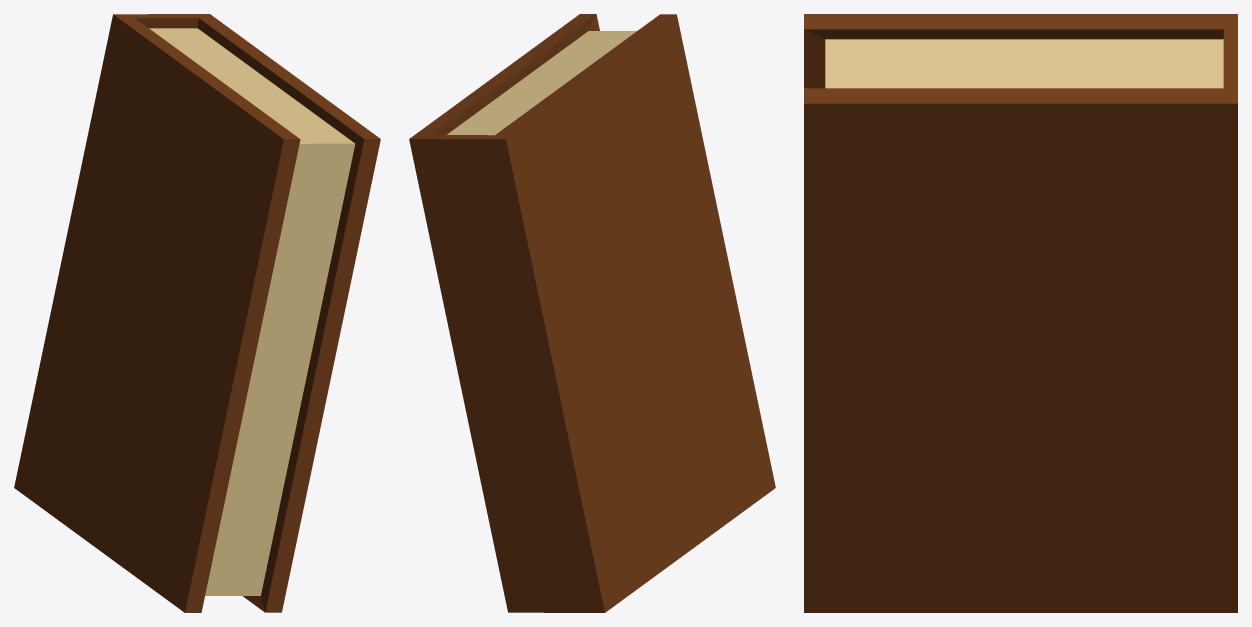
File: Book1_030.fbx
3 views of the same model, side by side, from view 1: azimuth 30°, elevation 25°; view 2: azimuth 150°, elevation 25°; view 3: azimuth 270°, elevation 25° (orthographic). The views are drawn at different scales.
Parts seen in each view (by area): view 1: Book1.030; view 2: Book1.030; view 3: Book1.030.
Boxes of the visible parts, x1=… form: Book1.030: x1=14, y1=14, x2=380, y2=612; Book1.030: x1=409, y1=14, x2=775, y2=612; Book1.030: x1=804, y1=14, x2=1237, y2=612.
Bounding box in the file's own units: 20.18 × 46.53 × 30.47.
